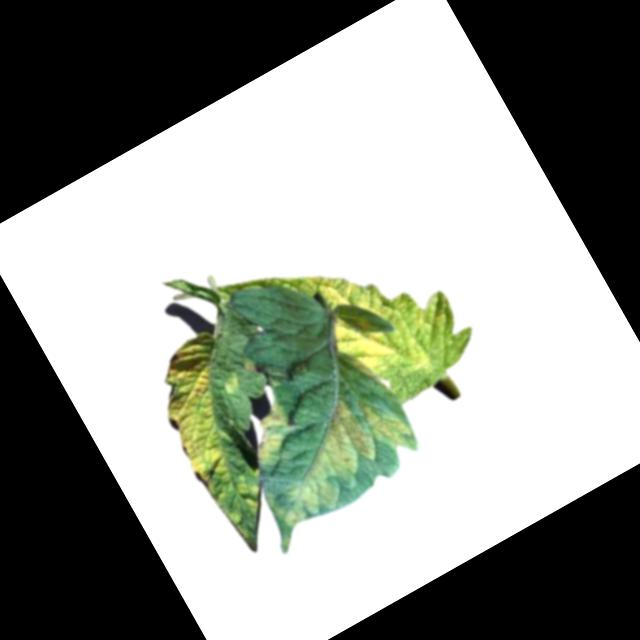Leaf_Mold: (136, 331, 314, 560), (294, 209, 482, 405), (241, 380, 425, 536), (233, 390, 312, 469)
